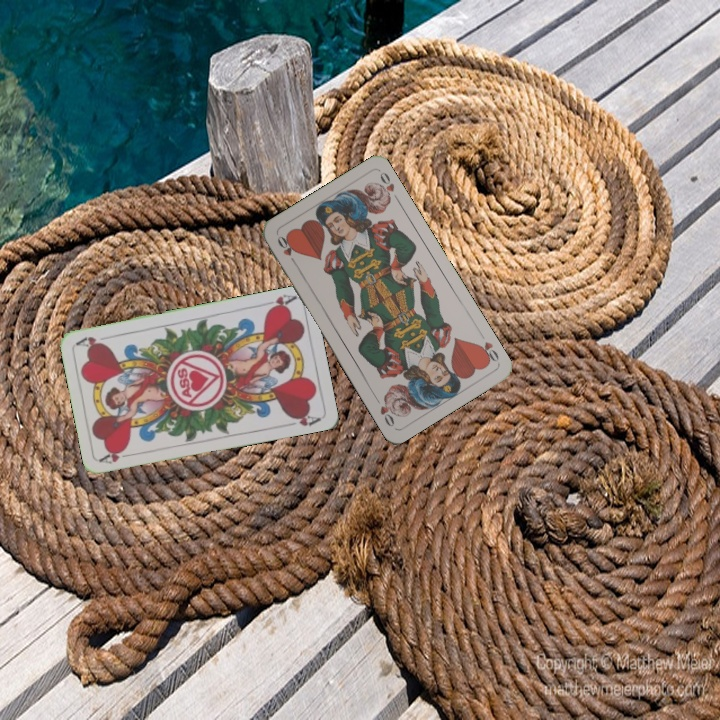HA: (258, 290, 299, 314), (97, 445, 137, 466)
HO: (473, 328, 502, 366), (273, 231, 300, 268)
